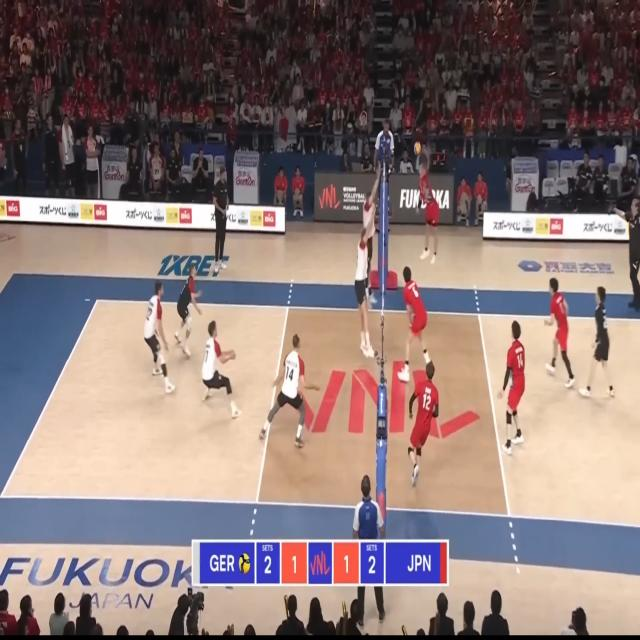ball: (414, 142, 421, 155)
